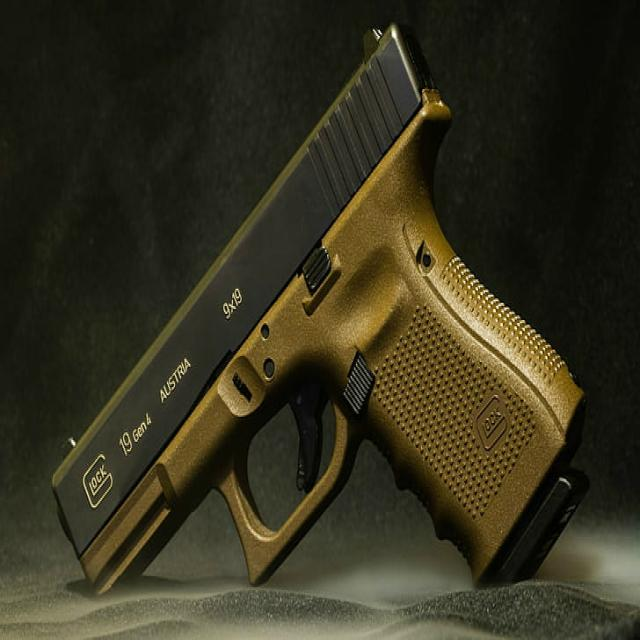handgun: (43, 24, 609, 610)
